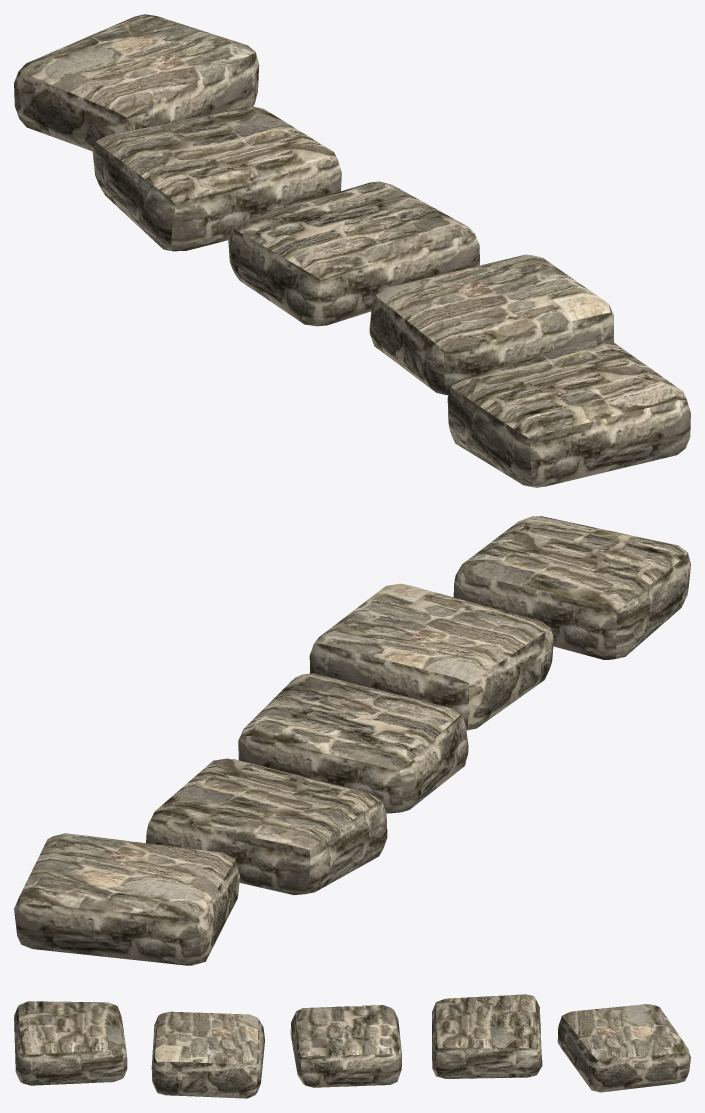
File: water_stepping-stones.glb
The picture shows the model from 3 angles, top to bottom: view 1: azimuth 30°, elevation 25°; view 2: azimuth 150°, elevation 25°; view 3: azimuth 270°, elevation 25°; orthographic projection. The views are drawn at different scales.
Parts seen in each view (by area): view 1: stone; view 2: stone; view 3: stone.
Part boxes in pixels (bbox=[...]): stone: bbox=[14, 14, 690, 487]; stone: bbox=[14, 516, 690, 965]; stone: bbox=[14, 994, 690, 1098].
Size of the model in its own units: 0.7901 by 0.2271 by 3.17.
1 material, 1 textured.
